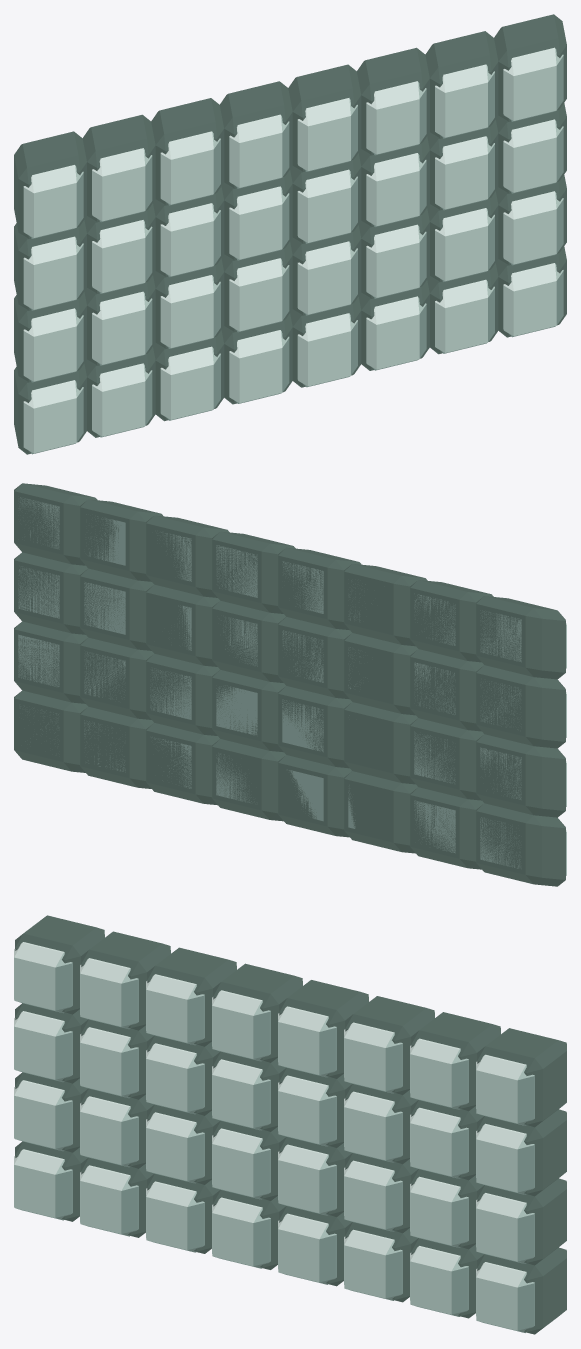
The model's file is Terrain_Block8x4.gltf.
3 renders of one model, top to bottom at view 1: azimuth 30°, elevation 25°; view 2: azimuth 150°, elevation 25°; view 3: azimuth 330°, elevation 25°, orthographic. The views are drawn at different scales.
Visible parts, largest first — view 1: Terrain_Block8x4_baked; view 2: Terrain_Block8x4_baked; view 3: Terrain_Block8x4_baked.
Part boxes in pixels (bbox=[...]): Terrain_Block8x4_baked: bbox=[14, 14, 566, 454]; Terrain_Block8x4_baked: bbox=[14, 483, 566, 886]; Terrain_Block8x4_baked: bbox=[14, 915, 566, 1334].
Bounding box in the file's own units: 8.15 × 4.15 × 0.7.
